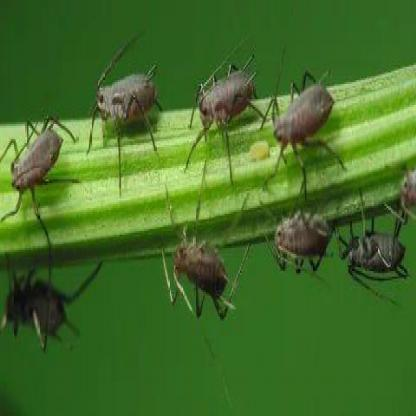aphid: (89, 27, 164, 183), (0, 242, 99, 353), (161, 182, 240, 319), (261, 53, 349, 175), (0, 114, 77, 236), (187, 36, 262, 158), (262, 166, 336, 286), (338, 201, 410, 300)
